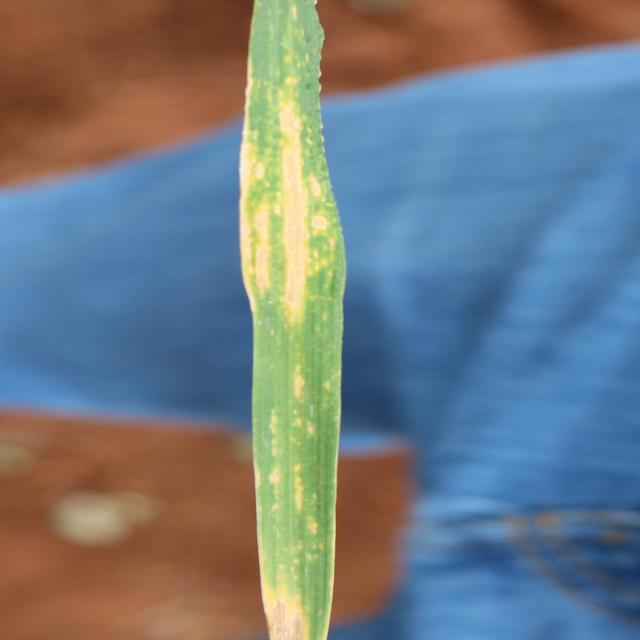Septoria: (238, 1, 348, 638)
